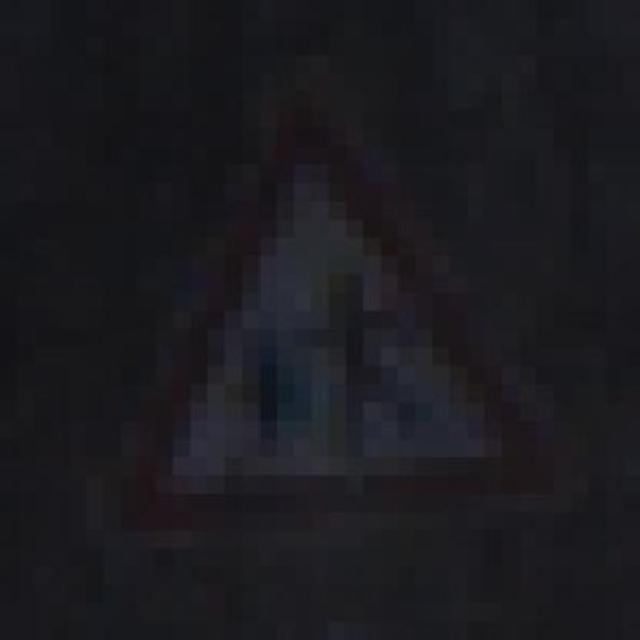Beware of children: (103, 109, 571, 531)
